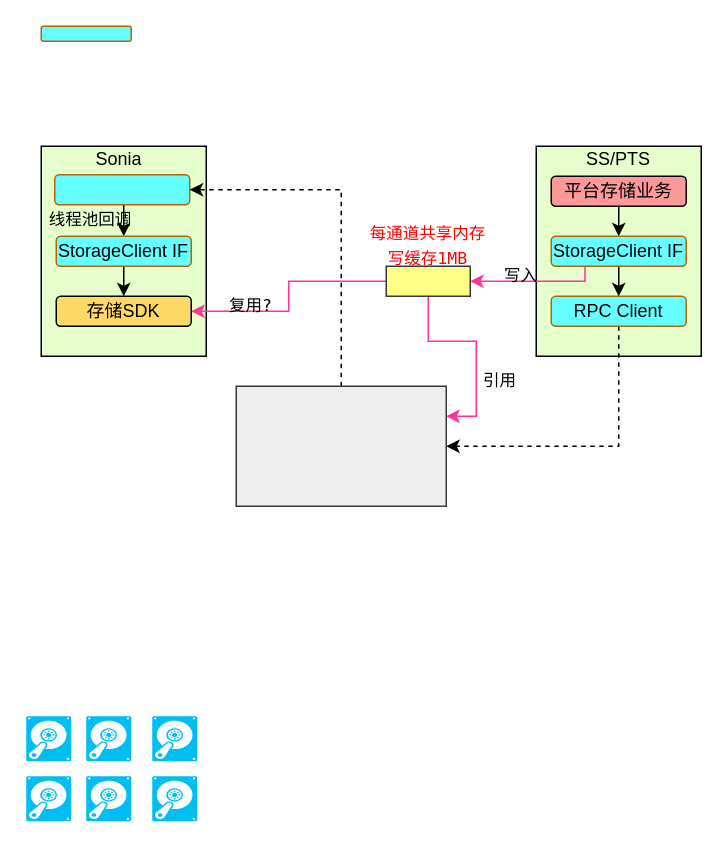
Image size: 728x848. Some labels were removed from this diagram. Each missing label, with the centre of its shape:
"Frame buf" goes at (x=427, y=280).
"RPC Server" goes at (x=121, y=189).
"RPCMsg: WriteFrame(...) field1 = StreamID field2 = Frame field3 = ..." goes at (x=340, y=445).
